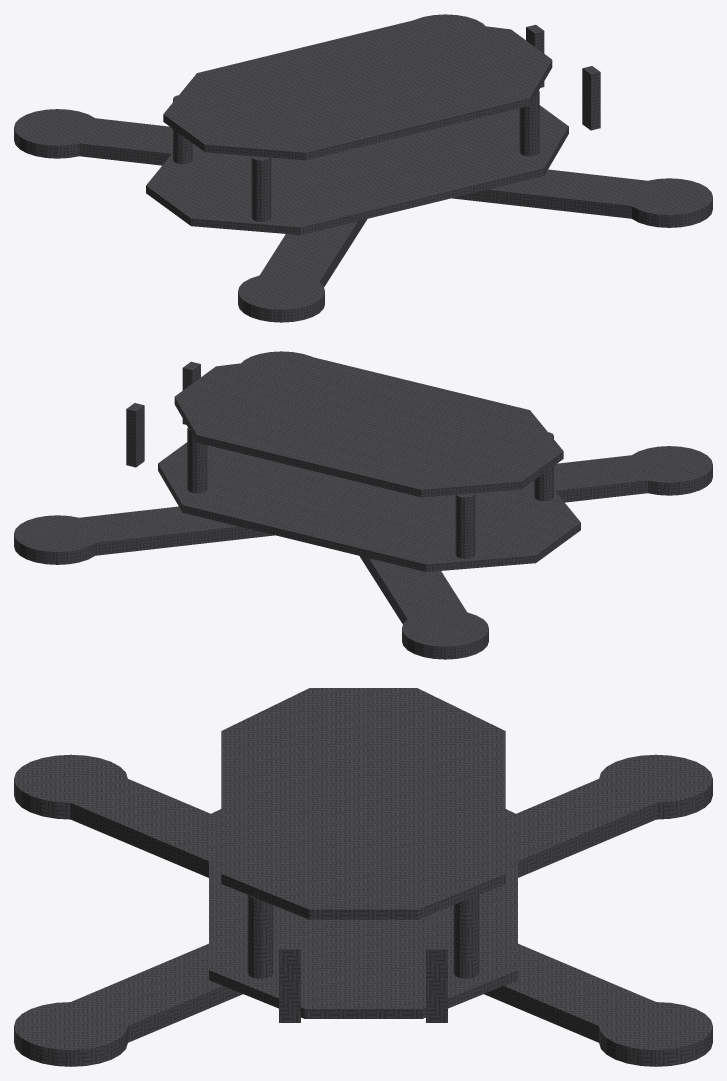
File: fpv_frame.obj
The picture shows the model from 3 angles, top to bottom: view 1: azimuth 30°, elevation 25°; view 2: azimuth 150°, elevation 25°; view 3: azimuth 270°, elevation 25°; orthographic projection. The views are drawn at different scales.
Parts seen in each view (by area): view 1: top_plate, bottom_plate, arm_1, arm_2, arm_3, motor_mount_2, motor_mount_1, motor_mount_3, standoff_3, cam_side_left, standoff_1, standoff_4; view 2: top_plate, bottom_plate, arm_4, arm_3, arm_2, motor_mount_3, motor_mount_4, motor_mount_2, standoff_4, cam_side_right, standoff_2, standoff_3; view 3: top_plate, bottom_plate, arm_2, arm_3, arm_1, arm_4, motor_mount_1, motor_mount_4, motor_mount_3, motor_mount_2, standoff_1, standoff_2 (+2 smaller).
Part boxes in pixels (left/top/right/bottom): top_plate: left=163, top=18, right=552, bottom=160; bottom_plate: left=146, top=105, right=568, bottom=234; arm_1: left=452, top=169, right=676, bottom=218; arm_2: left=252, top=219, right=367, bottom=294; arm_3: left=50, top=115, right=172, bottom=165; motor_mount_2: left=238, top=273, right=324, bottom=322; motor_mount_1: left=626, top=178, right=712, bottom=227; motor_mount_3: left=14, top=109, right=100, bottom=158; standoff_3: left=251, top=156, right=271, bottom=221; cam_side_left: left=582, top=66, right=600, bottom=130; standoff_1: left=519, top=91, right=539, bottom=156; standoff_4: left=173, top=95, right=192, bottom=164; top_plate: left=174, top=355, right=563, bottom=497; bottom_plate: left=158, top=442, right=580, bottom=571; arm_4: left=50, top=506, right=274, bottom=555; arm_3: left=359, top=556, right=473, bottom=631; arm_2: left=554, top=452, right=676, bottom=502; motor_mount_3: left=402, top=610, right=488, bottom=659; motor_mount_4: left=14, top=515, right=100, bottom=564; motor_mount_2: left=626, top=446, right=712, bottom=495; standoff_4: left=455, top=493, right=475, bottom=558; cam_side_right: left=126, top=403, right=144, bottom=467; standoff_2: left=187, top=428, right=207, bottom=493; standoff_3: left=534, top=432, right=553, bottom=501; top_plate: left=221, top=688, right=505, bottom=919; bottom_plate: left=209, top=809, right=517, bottom=1018; arm_2: left=43, top=767, right=210, bottom=877; arm_3: left=516, top=767, right=683, bottom=877; arm_1: left=43, top=943, right=242, bottom=1042; arm_4: left=484, top=943, right=683, bottom=1042; motor_mount_1: left=14, top=1002, right=127, bottom=1066; motor_mount_4: left=599, top=1002, right=712, bottom=1066; motor_mount_3: left=599, top=754, right=712, bottom=819; motor_mount_2: left=14, top=754, right=127, bottom=819; standoff_1: left=247, top=895, right=273, bottom=978; standoff_2: left=453, top=895, right=479, bottom=978.
Bounding box in the file's own units: 0.1901 × 0.035 × 0.1901.
1 material, 1 textured.
